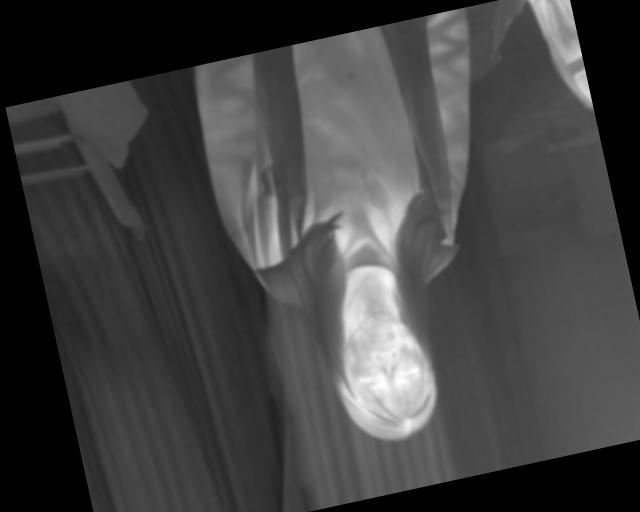face: (325, 304, 443, 450)
